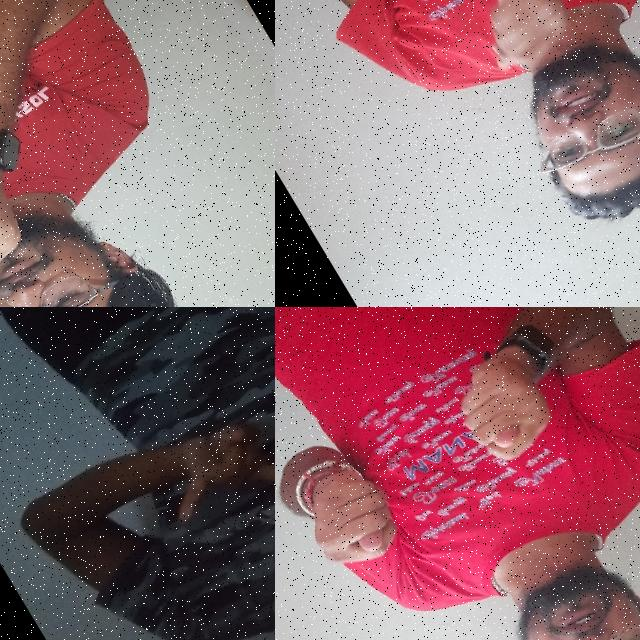Corna: (137, 381, 275, 564)
Dulya: (434, 342, 570, 484), (282, 445, 415, 584)
Fist Mouth: (415, 0, 640, 244), (0, 98, 188, 307)
